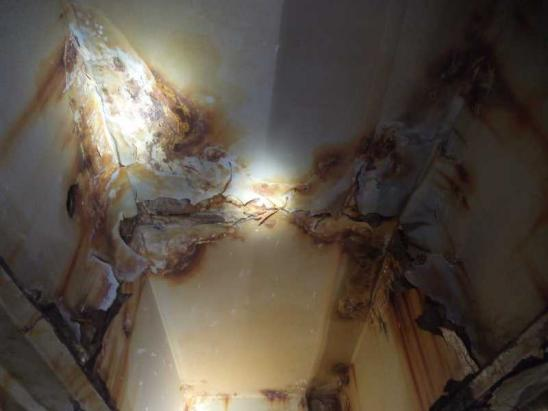corrosion: (394, 16, 527, 152), (294, 211, 419, 332), (126, 203, 261, 302), (48, 112, 112, 312), (251, 129, 375, 206), (144, 79, 250, 168), (3, 35, 66, 168), (295, 362, 380, 411)
